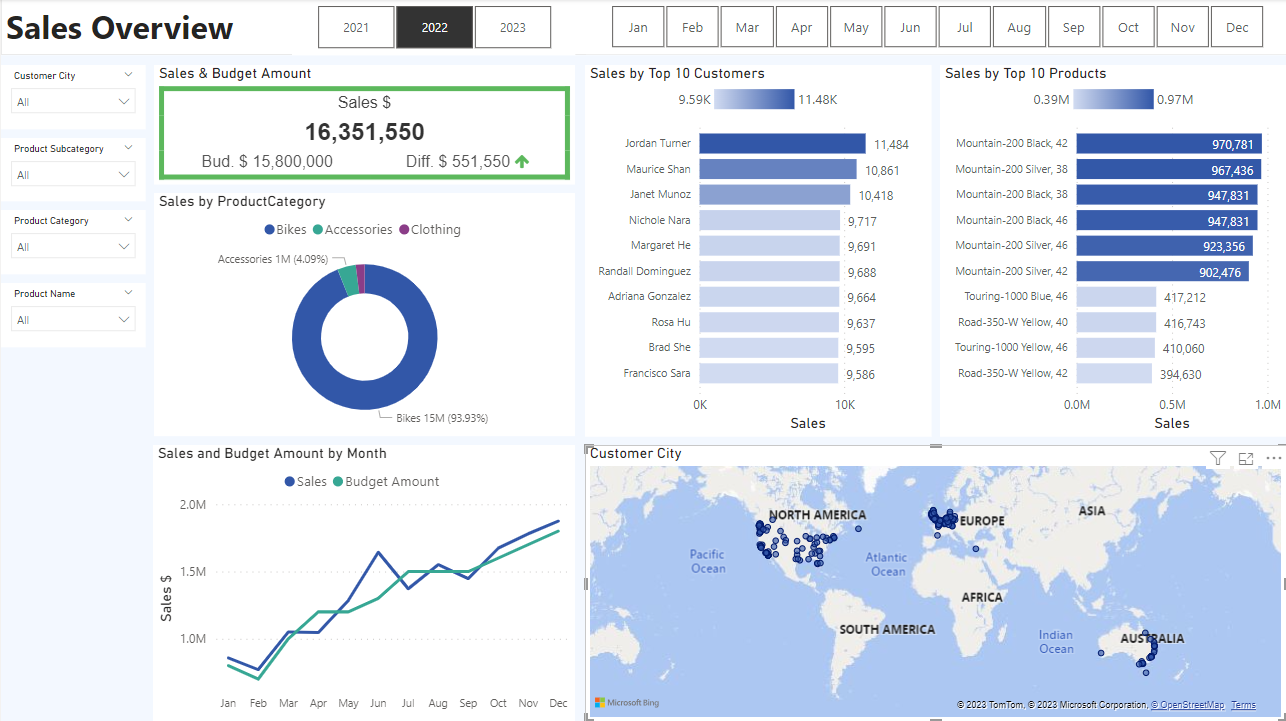

The page's visual inventory and layout, read from the dashboard file:
{"tool":"powerbi","page":{"name":"Sales Overview","canvas":[1280,720],"ordinal":0},"visuals":[{"type":"textbox","box":[0,0,1280,55.6],"z":0},{"type":"slicer","fields":{"Values":["DIM_Customer.Customer City"]},"box":[0,65.5,143.6,63.6],"z":1000},{"type":"slicer","fields":{"Values":["DIM_Products.ProductSubcategory"]},"box":[0,138.2,143.6,62.7],"z":2000},{"type":"slicer","fields":{"Values":["DIM_Products.ProductCategory"]},"box":[0,210,143.6,63.6],"z":3000},{"type":"slicer","fields":{"Values":["DIM_Products.ProductName"]},"box":[0,282.7,143.6,63.6],"z":4000},{"type":"slicer","fields":{"Values":["DIM_Calender.Year"]},"box":[290,0,282,55.9],"z":5000},{"type":"BBED0A4D4D8D44CE93CF2DAFADEE466C","title":"Sales & Budget Amount","fields":{"actual":["Fact_InternetSales.Sales"],"target1":["Fact_Budget.Budget Amount"],"target2":["Fact_Budget.Sales - Budget"]},"box":[152.7,65.5,419.1,119.1],"z":6000},{"type":"donutChart","fields":{"Y":["Key Measures.Sales"],"Category":["DIM_Products.ProductCategory"]},"box":[152.5,193.3,419.4,242.1],"z":7000},{"type":"lineChart","fields":{"Y":["Key Measures.Sales","Key Measures.Budget Amount"],"Category":["DIM_Calender.MonthShort"]},"box":[151.6,444.2,420.3,275.8],"z":8000},{"type":"slicer","fields":{"Values":["DIM_Calender.MonthShort"]},"box":[581.8,0,698.2,55.5],"z":9000},{"type":"barChart","title":"Sales by Top 10 Customers","fields":{"Y":["Key Measures.Sales"],"Category":["DIM_Customer.FullName"]},"box":[580.8,65.6,344.9,369.8],"z":10000},{"type":"barChart","title":"Sales by Top 10 Products","fields":{"Y":["Key Measures.Sales"],"Category":["DIM_Products.ProductName"]},"box":[934.6,65.6,344.9,369.8],"z":11000},{"type":"map","fields":{"Category":["DIM_Customer.Customer City"]},"box":[581.7,444.2,697.8,275.8],"z":12000}]}

Visuals, with their boxes in screenshot pixels (x1, y1, x2, y2), scaled from the page's 1280x720 canvas onto the 1286x721 screenshot:
textbox: region(0, 0, 1285, 56)
slicer - DIM_Customer.Customer City: region(0, 66, 144, 129)
slicer - DIM_Products.ProductSubcategory: region(0, 138, 144, 201)
slicer - DIM_Products.ProductCategory: region(0, 210, 144, 274)
slicer - DIM_Products.ProductName: region(0, 283, 144, 347)
slicer - DIM_Calender.Year: region(291, 0, 575, 56)
"Sales & Budget Amount" BBED0A4D4D8D44CE93CF2DAFADEE466C: region(153, 66, 574, 185)
donutChart - Key Measures.Sales x DIM_Products.ProductCategory: region(153, 194, 575, 436)
lineChart - Key Measures.Sales x Key Measures.Budget Amount: region(152, 445, 575, 720)
slicer - DIM_Calender.MonthShort: region(585, 0, 1285, 56)
"Sales by Top 10 Customers" barChart: region(584, 66, 930, 436)
"Sales by Top 10 Products" barChart: region(939, 66, 1285, 436)
map - DIM_Customer.Customer City: region(584, 445, 1285, 720)
